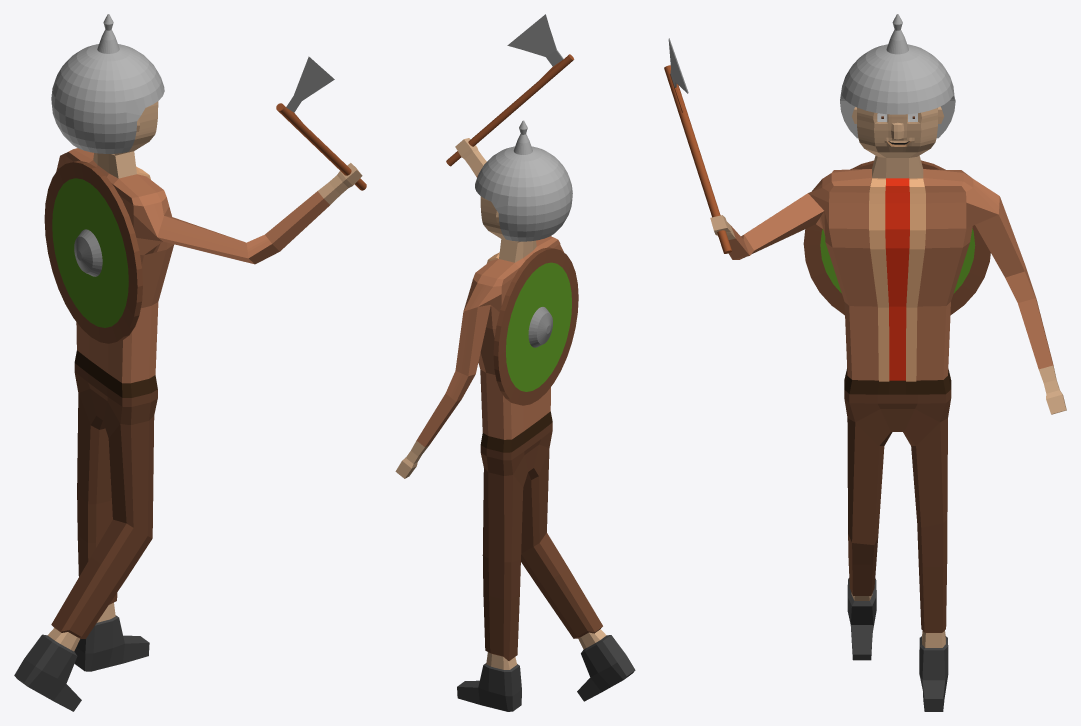
File: Personnage1.fbx
3 renders of one model, left to right at view 1: azimuth 30°, elevation 25°; view 2: azimuth 150°, elevation 25°; view 3: azimuth 270°, elevation 25°, orthographic. The views are drawn at different scales.
Parts seen in each view (by area): view 1: Cube, Cylinder.001, Sphere, Cylinder; view 2: Cube, Cylinder.001, Sphere, Cylinder; view 3: Cube, Sphere, Cylinder.001, Cylinder.
Boxes of the visible parts, <box> form: Cube: <box>14,101,362,711</box>; Cylinder.001: <box>44,160,142,343</box>; Sphere: <box>51,14,164,153</box>; Cylinder: <box>276,56,366,190</box>; Cube: <box>395,138,635,711</box>; Cylinder.001: <box>493,247,578,405</box>; Sphere: <box>475,120,572,241</box>; Cylinder: <box>446,14,574,166</box>; Cube: <box>710,106,1066,711</box>; Sphere: <box>840,14,955,138</box>; Cylinder.001: <box>803,160,990,315</box>; Cylinder: <box>664,38,731,253</box>.
Size of the model in its own units: 1086 by 2543 by 1338.
